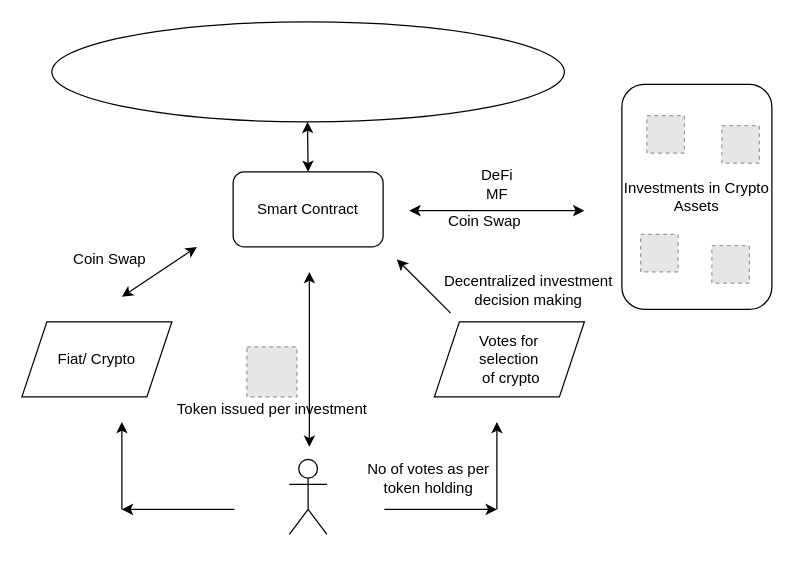
This 794x583 diagram has some shape labels left out. Grey dashed boxes stand in for pictures. The box of each missing label's shape, as (x1, y1, x2, y2) in pixels:
Investors: (288, 458, 327, 534)
Mutual Fund Pool: (51, 21, 564, 122)
